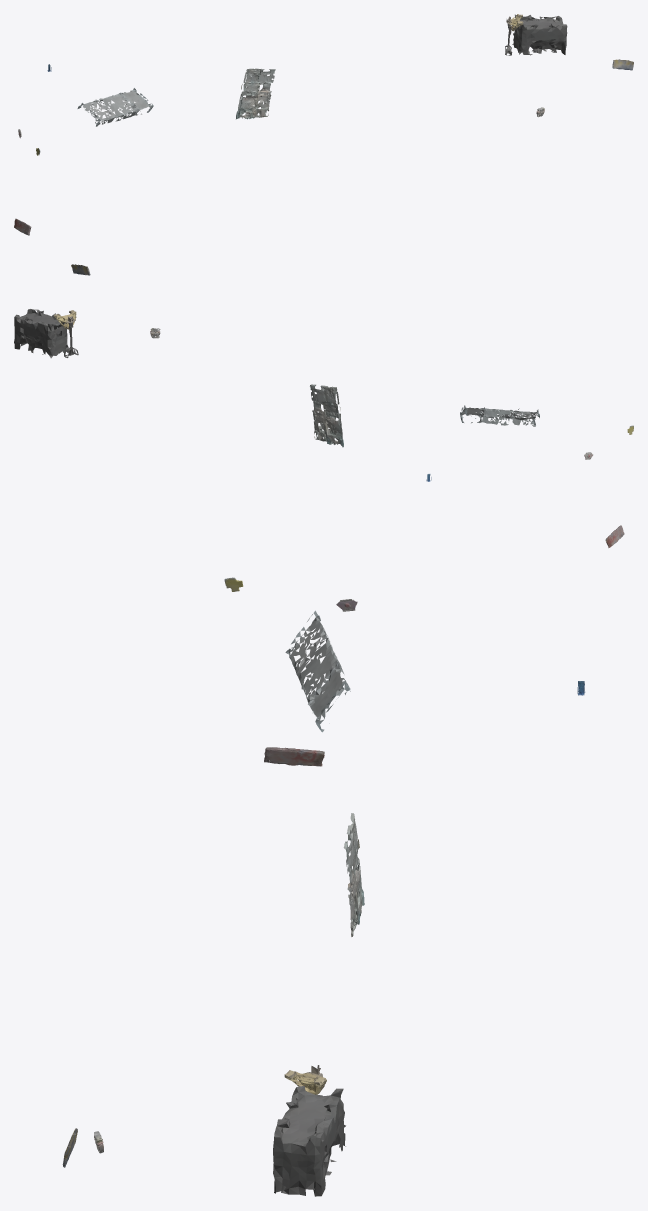
File: models-0-0.glb
3 views of the same model, one above another, from view 1: azimuth 30°, elevation 25°; view 2: azimuth 150°, elevation 25°; view 3: azimuth 270°, elevation 25° (orthographic). The views are drawn at different scales.
Parts seen in each view (by area): view 1: obj-0-248, obj-0-777, obj-0-728; view 2: obj-0-248, obj-0-777, obj-0-728, obj-0-0; view 3: obj-0-248, obj-0-728, obj-0-777, obj-0-670.
Part boxes in pixels (x1,y1,x2,y2): obj-0-248: (512,14,567,55); obj-0-777: (236,68,275,119); obj-0-728: (77,88,153,126); obj-0-248: (14,309,68,358); obj-0-777: (310,384,343,447); obj-0-728: (460,405,539,426); obj-0-0: (54,310,78,357); obj-0-248: (273,1086,345,1196); obj-0-728: (285,610,350,732); obj-0-777: (343,813,364,936); obj-0-670: (264,747,324,766).
Size of the model in its own units: 24.92 by 4.72 by 10.13.
